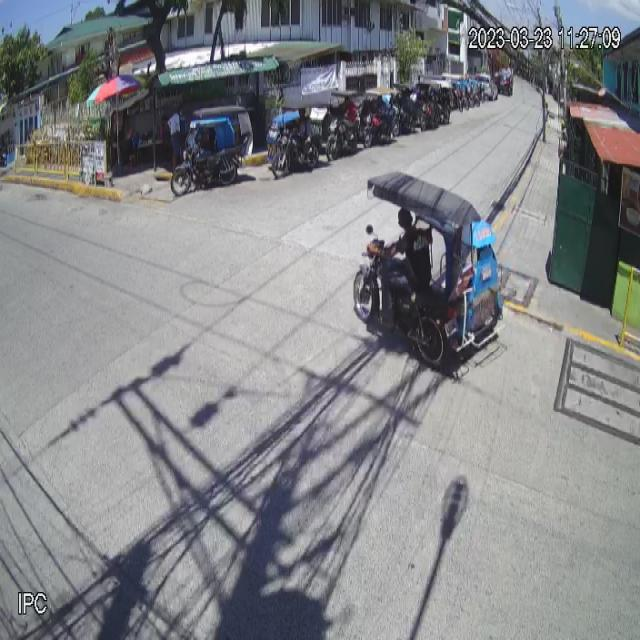Tricycle: (353, 170, 503, 370), (170, 105, 254, 196)
